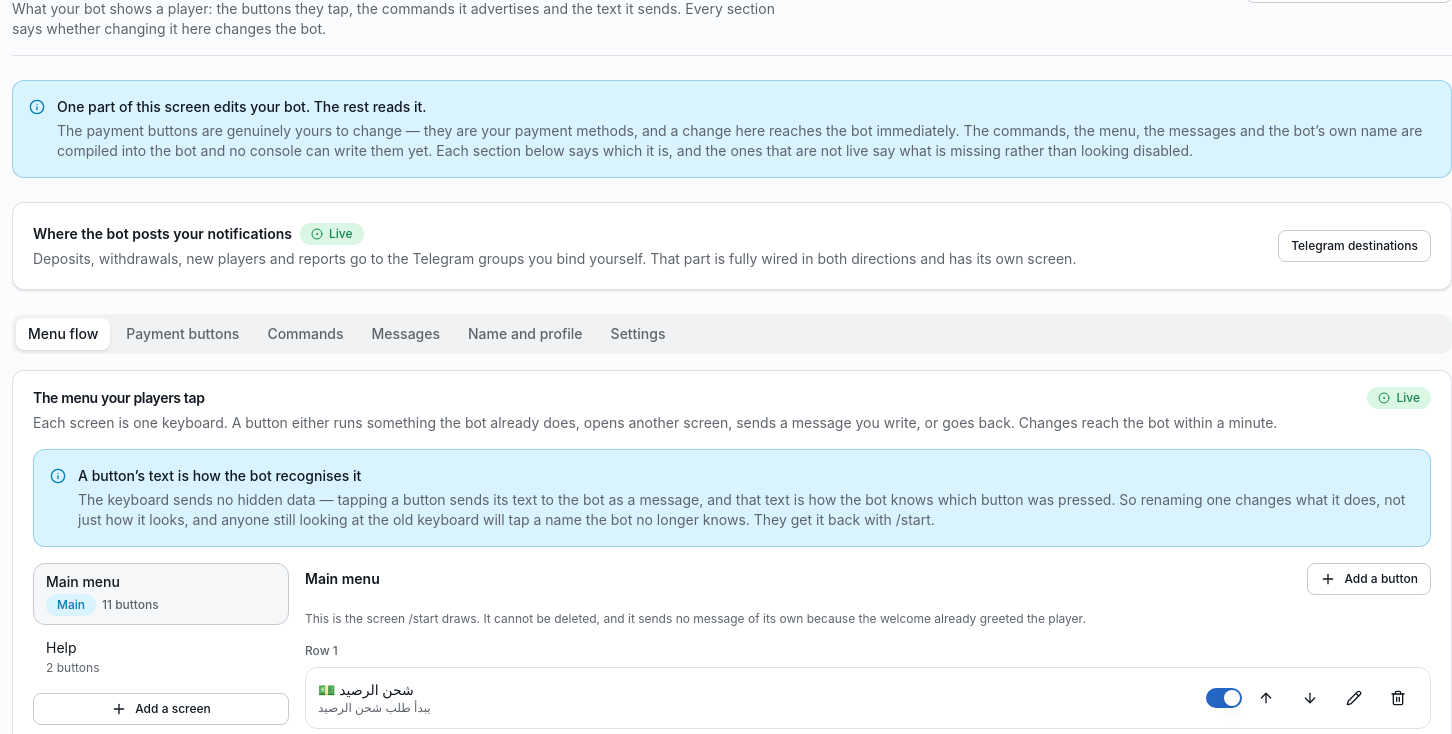
Test: the payment buttons, which are the live part › marks a method the bot does not show, rather than leaving it out of the list
Click the tab "Payment buttons". click: (183, 334)
box: [114,318,251,350]
(page scrolled)
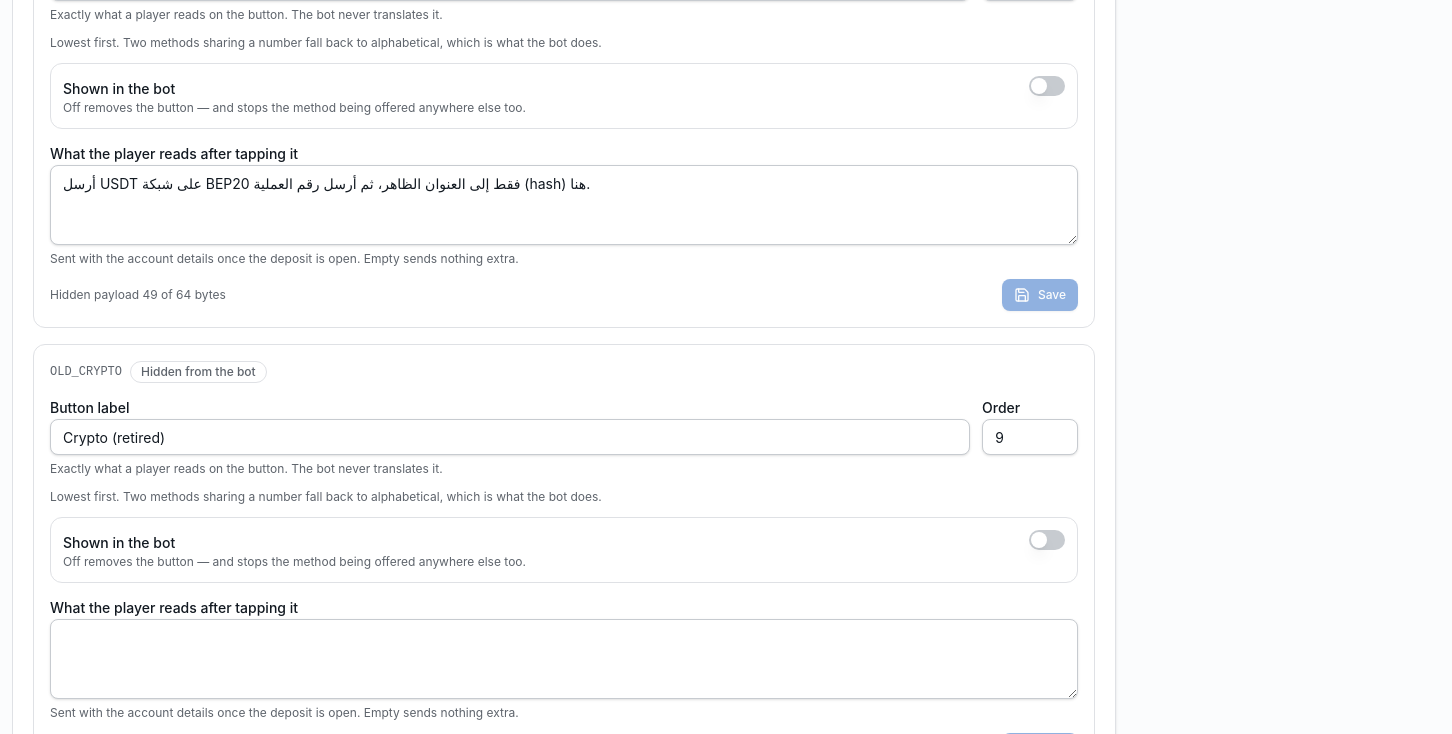
Now the text "Hidden from the bot" is shown, box [130,361,267,383]
